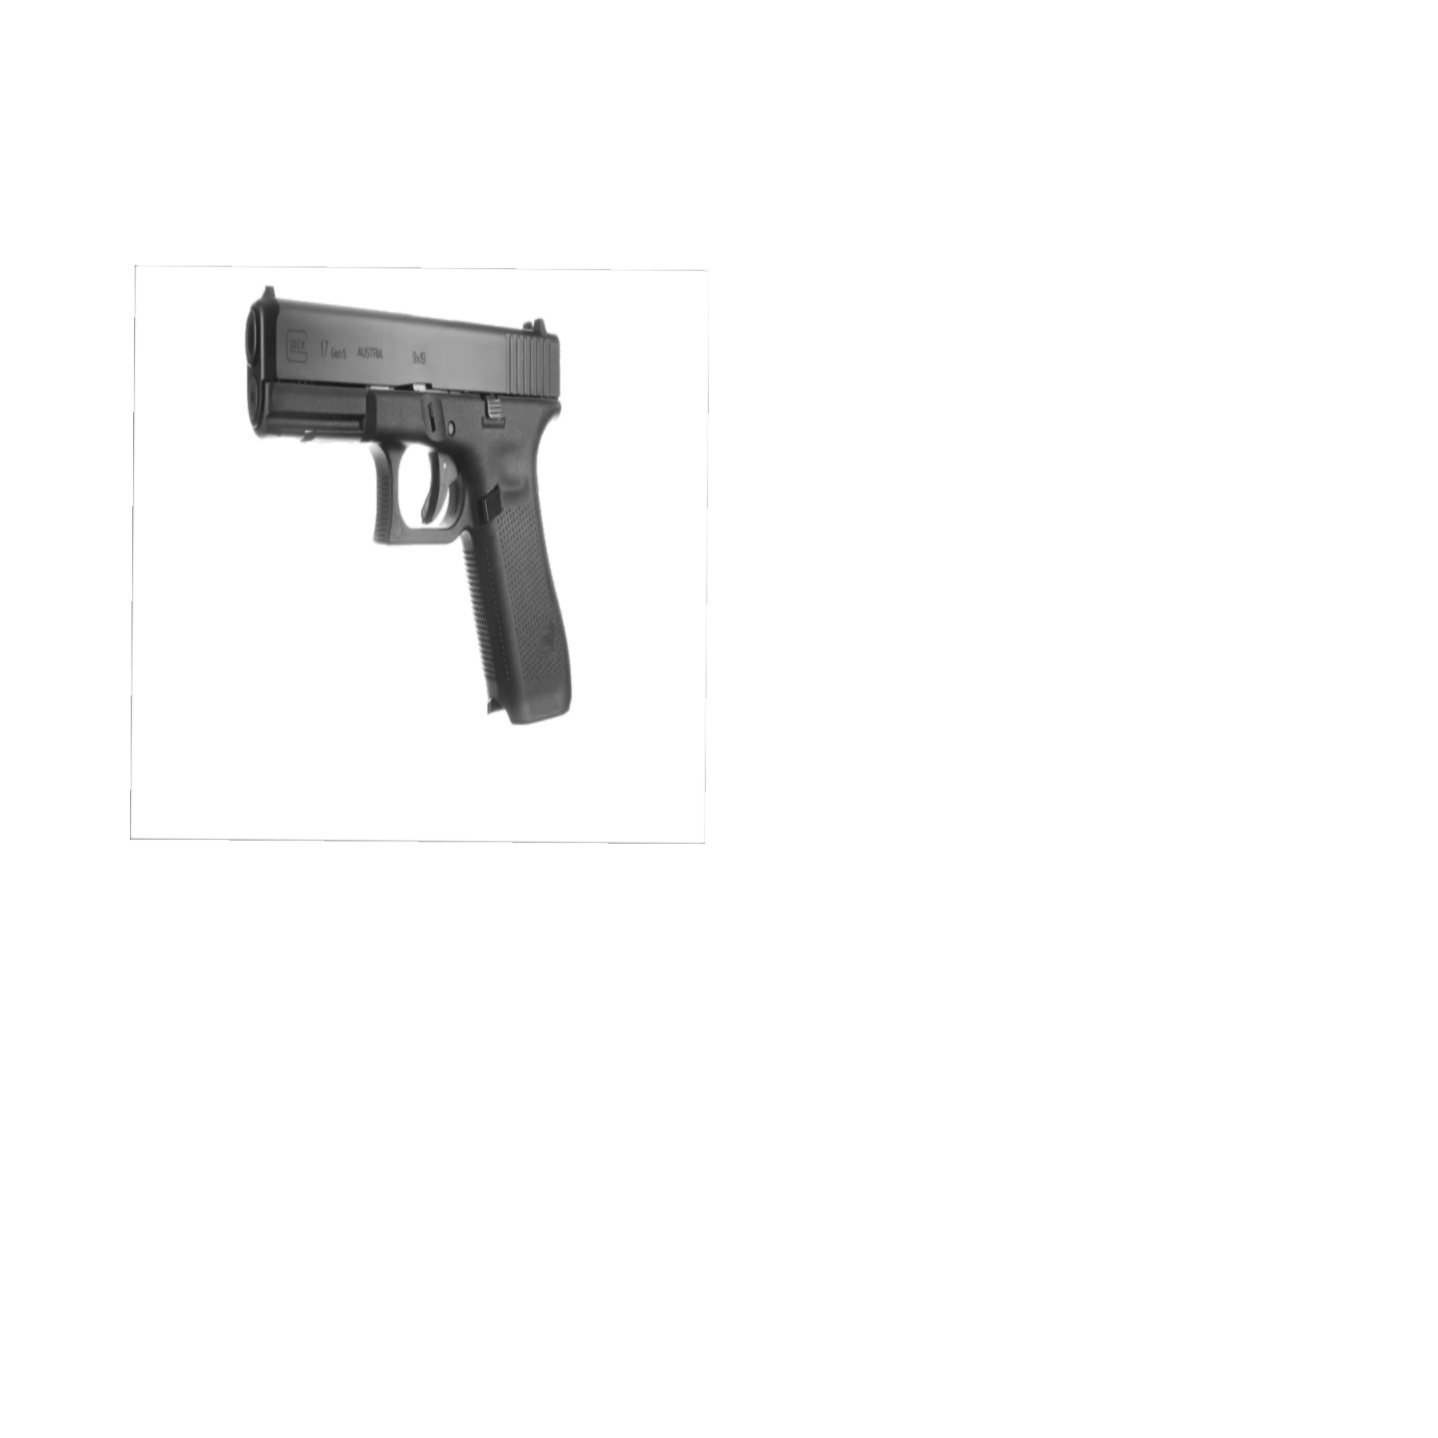gun: (244, 288, 578, 726)
